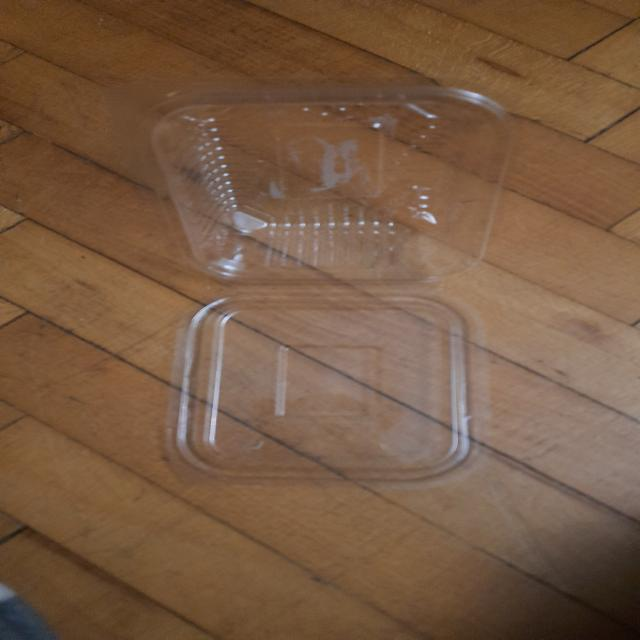plastic: (101, 59, 574, 488)
